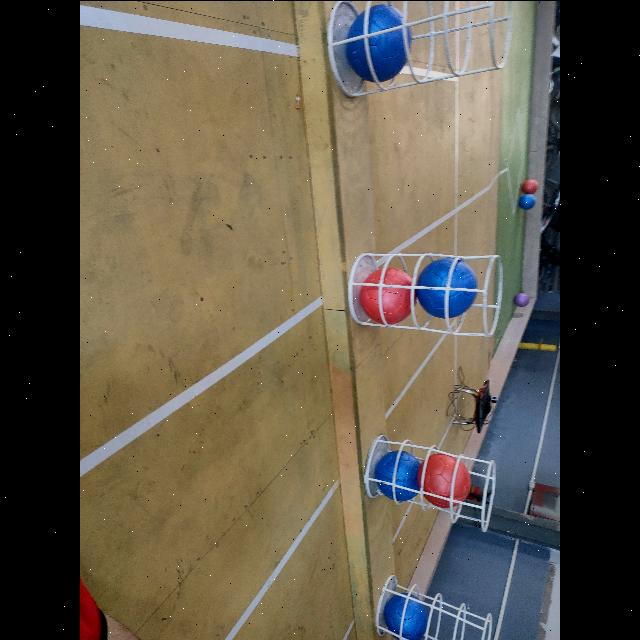B: (346, 4, 412, 82), (417, 256, 477, 318), (375, 450, 421, 502), (384, 592, 428, 640), (518, 194, 536, 208)
R: (361, 267, 417, 325), (417, 452, 471, 508), (521, 179, 539, 193)
